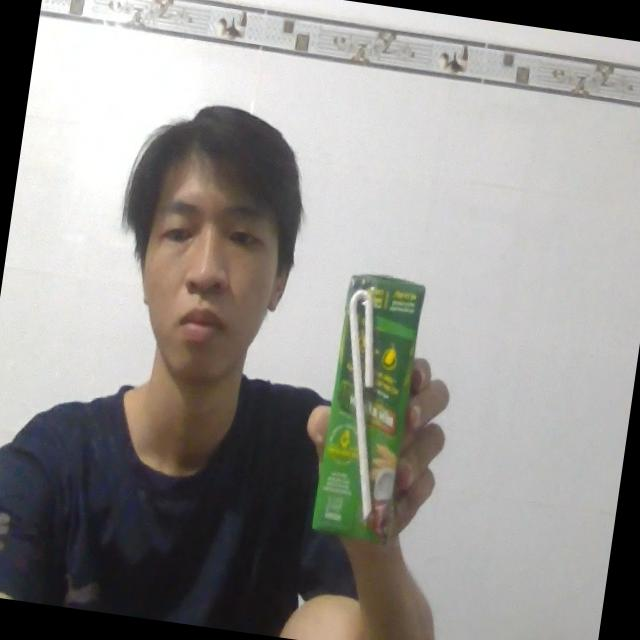sua milo: (298, 253, 437, 560)
